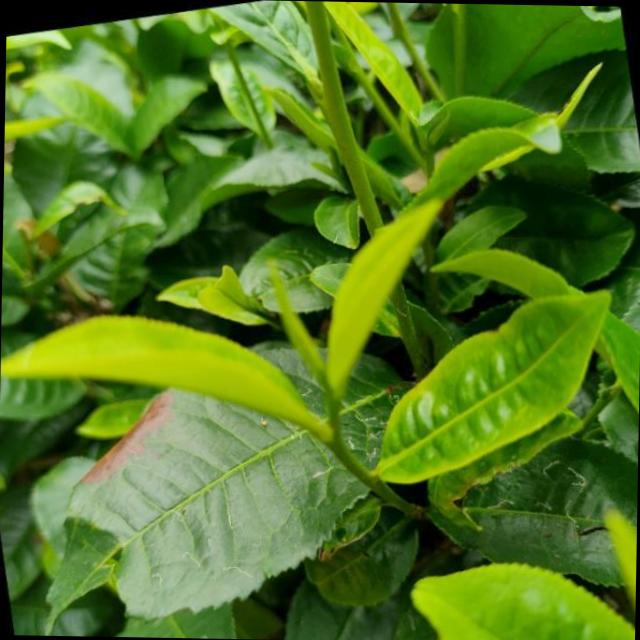Stem: (328, 397, 338, 414)
